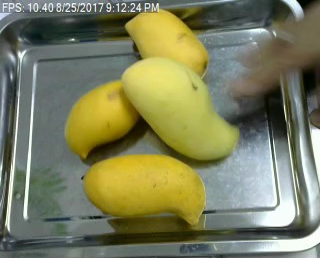Mango: (118, 57, 239, 163), (78, 154, 209, 228), (61, 75, 149, 158), (122, 6, 212, 85)
